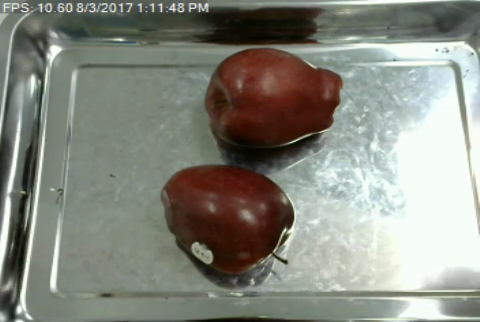Apple: (157, 159, 299, 281), (200, 43, 345, 151)
